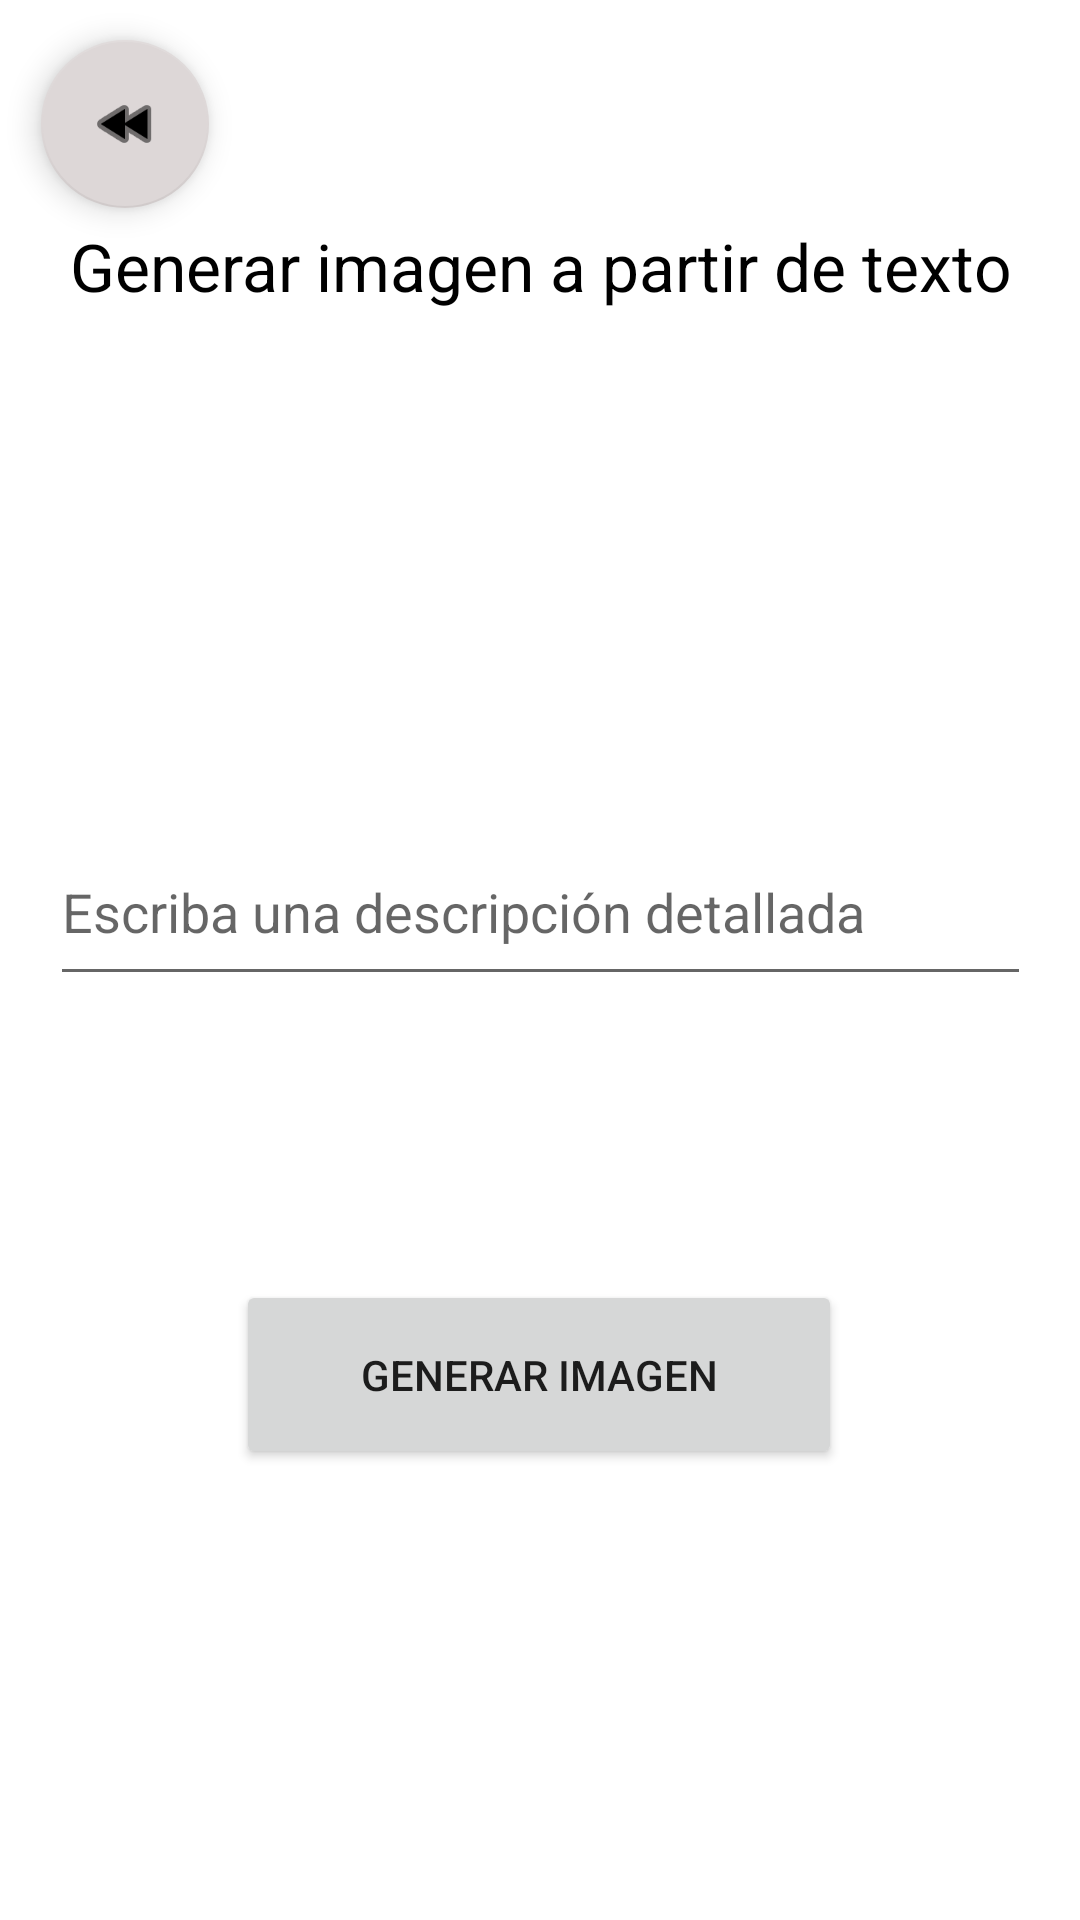

Screen size 1080w x 1920h. Icon name, then its center in pixels as point (x, y):
rew: point (125, 124)
